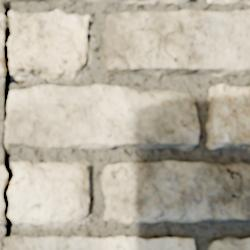brick: (6, 84, 198, 150), (102, 10, 249, 75), (102, 161, 249, 223), (207, 85, 249, 151), (4, 236, 194, 249), (2, 0, 188, 3), (209, 237, 249, 249), (208, 0, 249, 3)
broken_brick: (10, 8, 90, 80), (11, 159, 89, 224), (0, 12, 4, 56), (0, 195, 4, 226), (0, 165, 4, 190), (0, 66, 3, 78)
crack: (0, 2, 28, 247), (21, 13, 34, 15)
